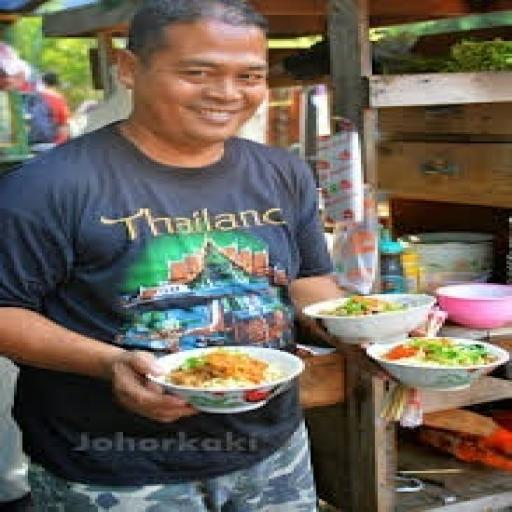eating: (0, 0, 350, 510)
